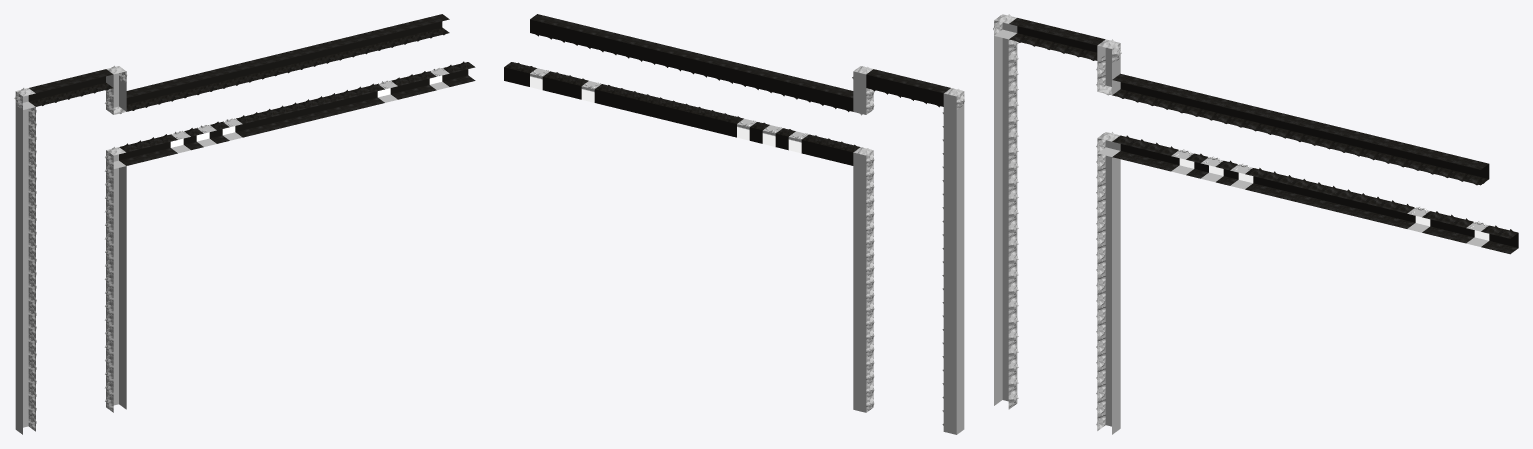
Rendered from Cubi_Corridor13to14.fbx.
The picture shows the model from 3 angles, left to right: view 1: azimuth 30°, elevation 25°; view 2: azimuth 150°, elevation 25°; view 3: azimuth 330°, elevation 25°; orthographic projection. The views are drawn at different scales.
Visible parts, largest first — view 1: Cubes_Corridor13to14; view 2: Cubes_Corridor13to14; view 3: Cubes_Corridor13to14.
Part boxes in pixels (bbox=[...]): Cubes_Corridor13to14: bbox=[14, 14, 475, 434]; Cubes_Corridor13to14: bbox=[504, 14, 964, 434]; Cubes_Corridor13to14: bbox=[993, 14, 1518, 434].
Size of the model in its own units: 3522 by 2522 by 100.
